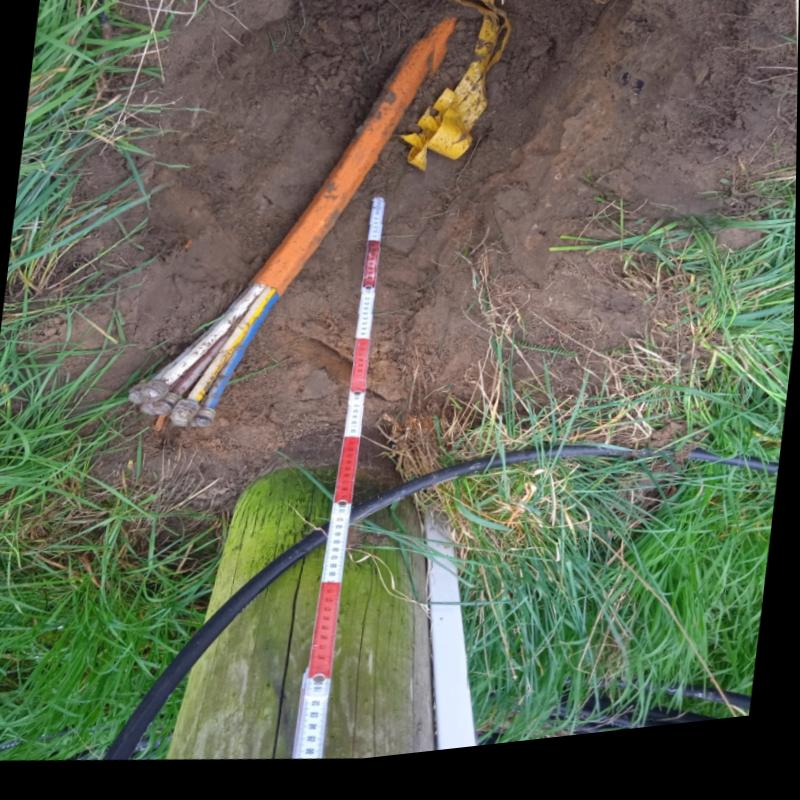Orang-Speednetrohrchen: (128, 45, 439, 431)
